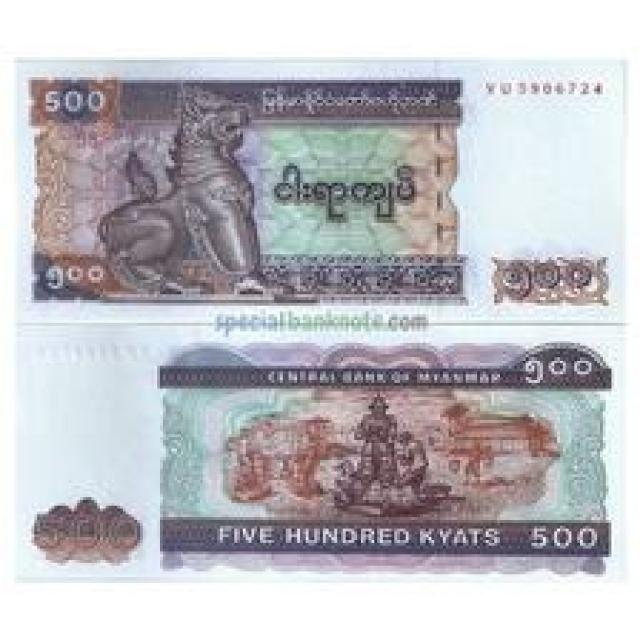banknote: (15, 59, 624, 310), (36, 336, 610, 582)
